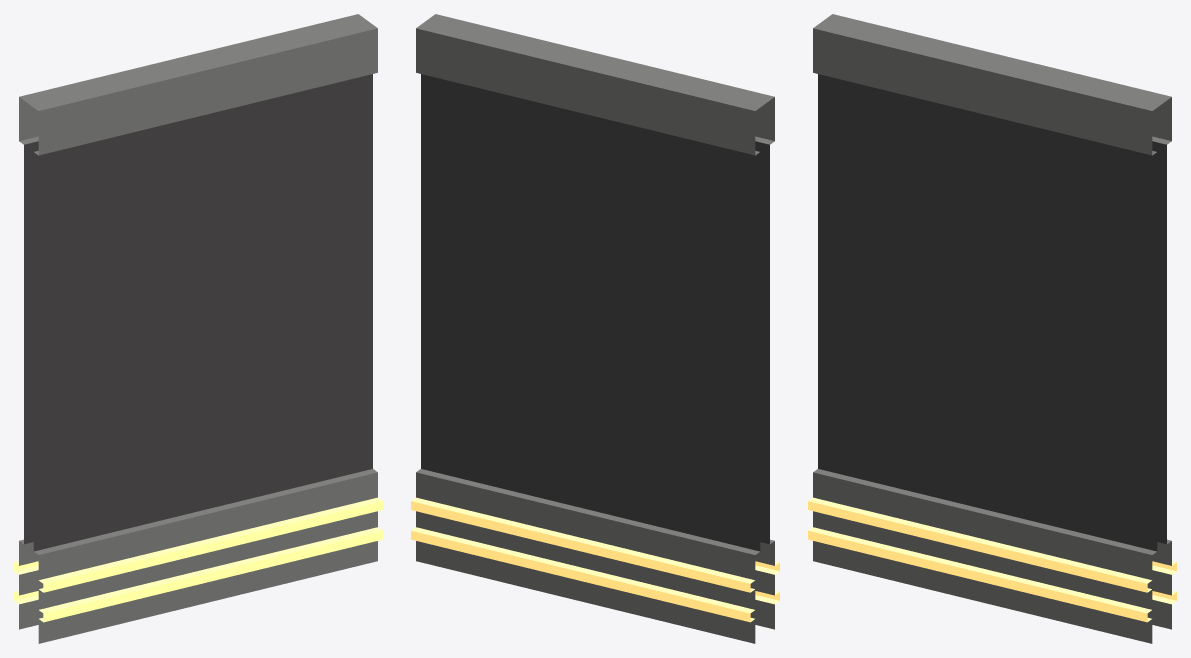
Rendered from wall.fbx.
3 renders of one model, left to right at view 1: azimuth 30°, elevation 25°; view 2: azimuth 150°, elevation 25°; view 3: azimuth 330°, elevation 25°, orthographic.
Visible parts, largest first — view 1: Wall.Plain; view 2: Wall.Plain; view 3: Wall.Plain.
Part boxes in pixels (x1,y1,x2,y2): Wall.Plain: (14,14,382,643); Wall.Plain: (411,14,779,643); Wall.Plain: (808,14,1176,643).
Size of the model in its own units: 200 by 300 by 30.
